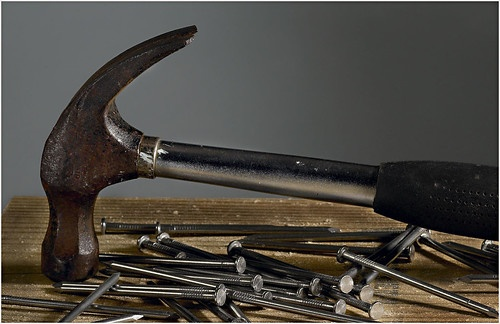hammer: (37, 22, 497, 283)
